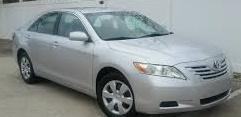Cars: (13, 8, 230, 116)
